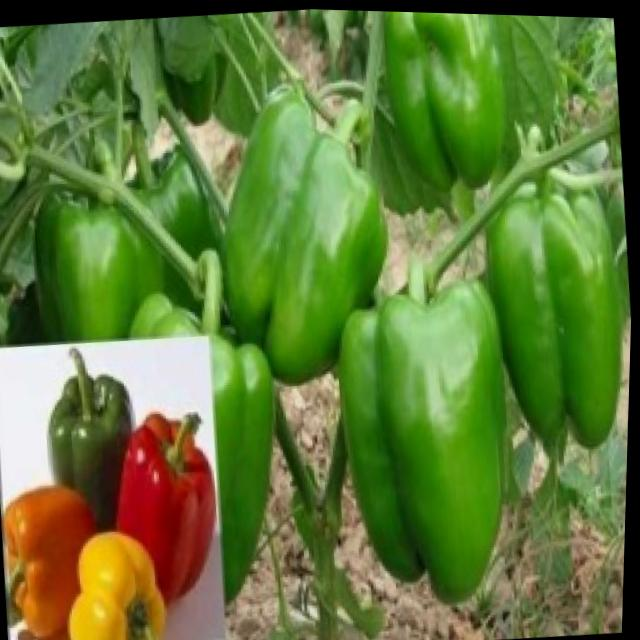Capsicum: (328, 254, 530, 611), (205, 71, 402, 387), (476, 165, 636, 453), (377, 9, 515, 193)
